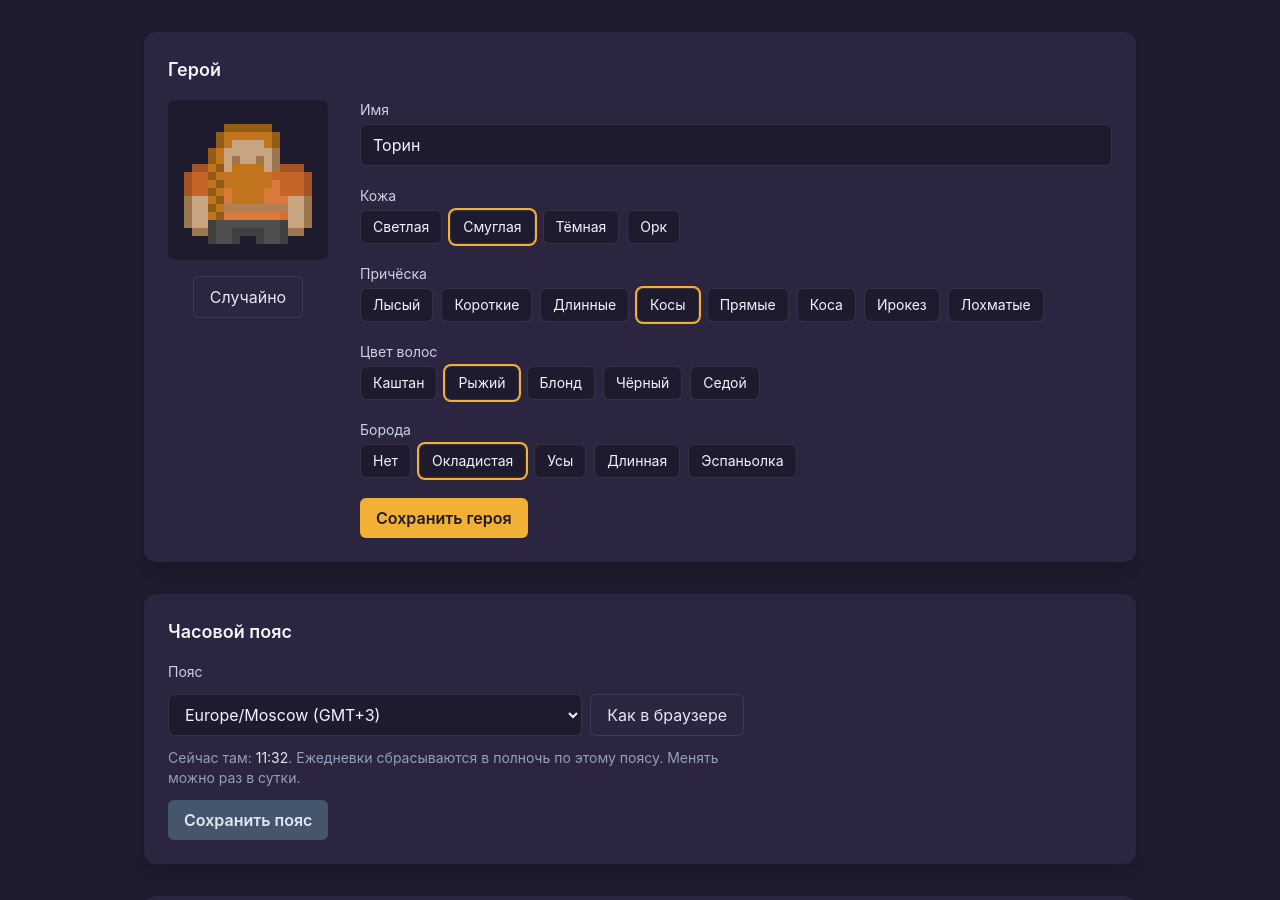
Test: ProfileView › shows a name validation error
This screenshot has width=1280, height=900.
Replace the text in the field named "name" with "A": (736, 145) [360,124,1112,166]
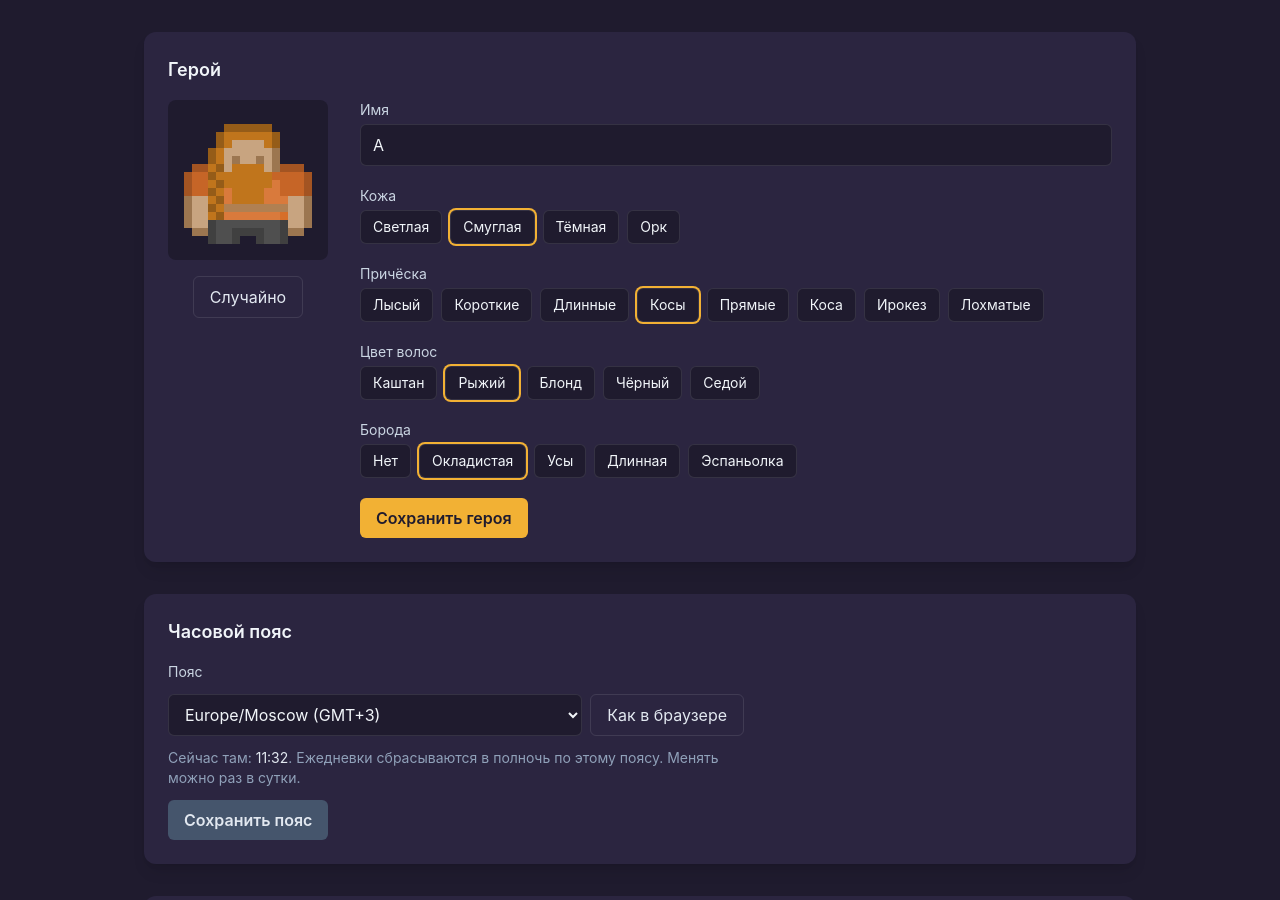
Submit the form that starts with "Случайно", box [168,100,1112,538]
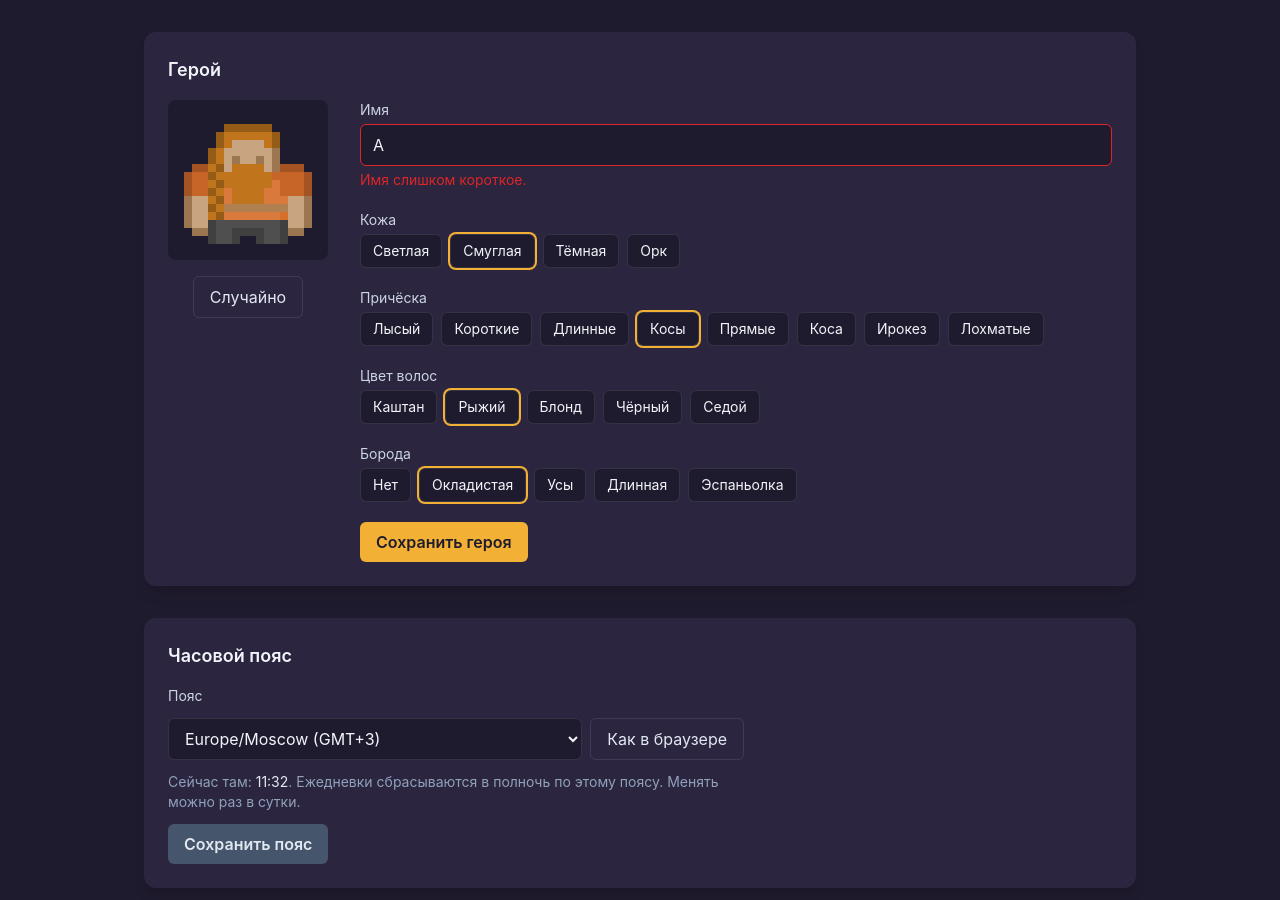
Now the text "Имя слишком короткое." is shown, box [360,171,526,188]
